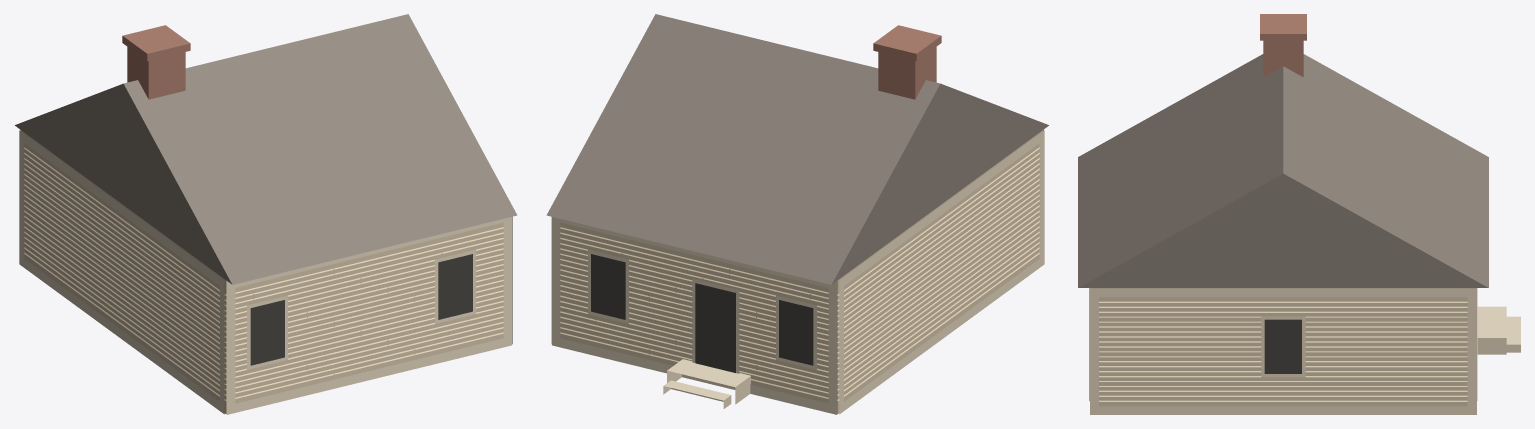
File: recon_1835_blk_south_water_dearborn_d4_09__inferred_1835.glb
The picture shows the model from 3 angles, left to right: view 1: azimuth 30°, elevation 25°; view 2: azimuth 150°, elevation 25°; view 3: azimuth 270°, elevation 25°; orthographic projection. The views are drawn at different scales.
Parts seen in each view (by area): view 1: recon_1835_blk_south_water_dearborn_d4_09__inferred_1835; view 2: recon_1835_blk_south_water_dearborn_d4_09__inferred_1835; view 3: recon_1835_blk_south_water_dearborn_d4_09__inferred_1835.
Boxes of the visible parts, box(x1,y1,x2,y2) form: recon_1835_blk_south_water_dearborn_d4_09__inferred_1835: box(15, 14, 517, 414); recon_1835_blk_south_water_dearborn_d4_09__inferred_1835: box(546, 14, 1048, 414); recon_1835_blk_south_water_dearborn_d4_09__inferred_1835: box(1078, 14, 1520, 414).
Size of the model in its own units: 6.55 by 6.33 by 9.24.
